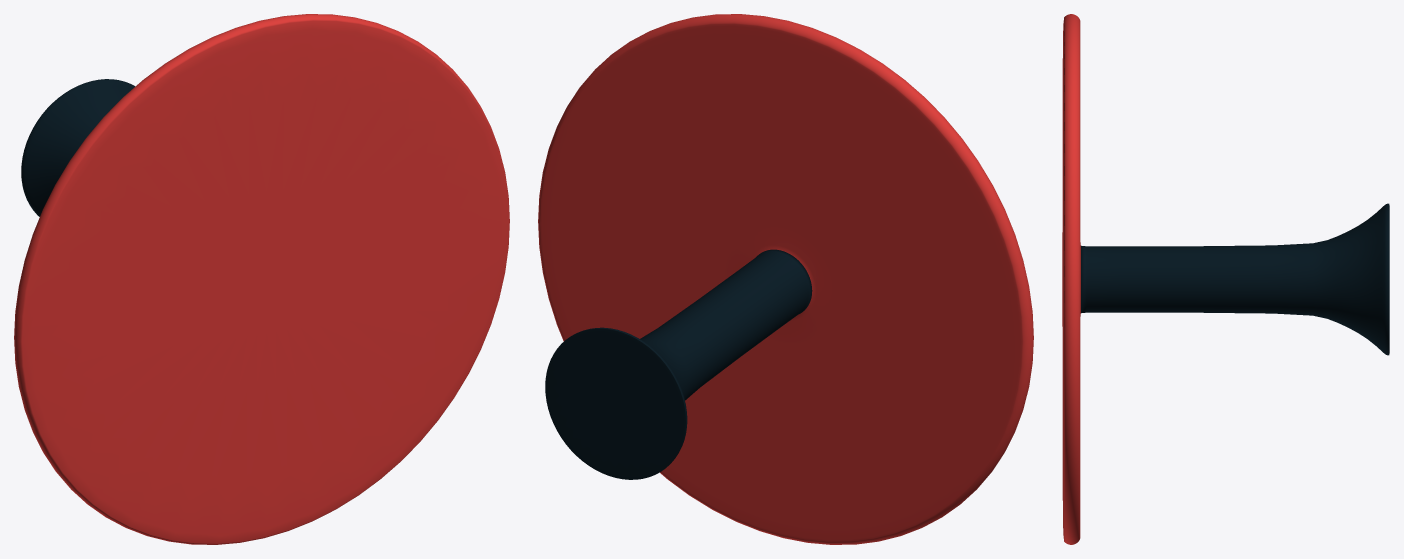
Rendered from KitchenTable01.fbx.
3 renders of one model, left to right at view 1: azimuth 30°, elevation 25°; view 2: azimuth 150°, elevation 25°; view 3: azimuth 270°, elevation 25°, orthographic. The views are drawn at different scales.
Visible parts, largest first — view 1: KitchenTable000; view 2: KitchenTable000; view 3: KitchenTable000.
Boxes of the visible parts, x1,y1,x2,y2 form: KitchenTable000: [14, 14, 509, 544]; KitchenTable000: [538, 14, 1033, 544]; KitchenTable000: [1062, 14, 1389, 544].
Bounding box in the file's own units: 87824 × 87824 × 54054.
Materials: 1 (1 with a texture image).
